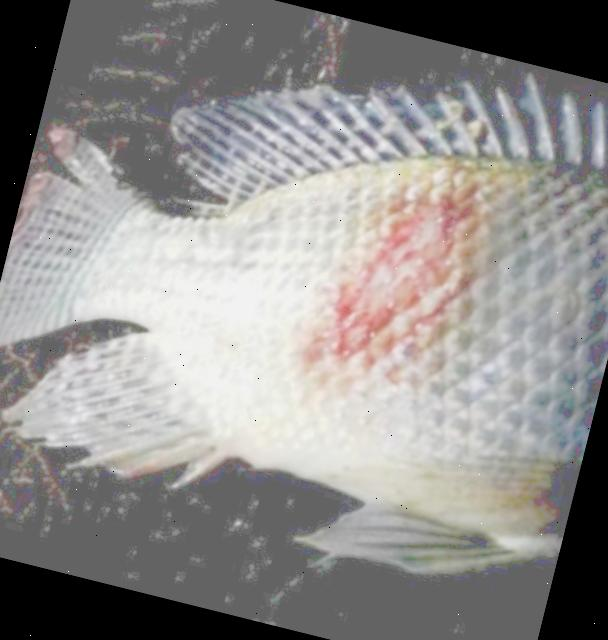Tilapia Lake Virus -TiLV-: (0, 83, 608, 571), (0, 86, 608, 572)
